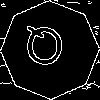Q: (25, 25, 64, 74)
